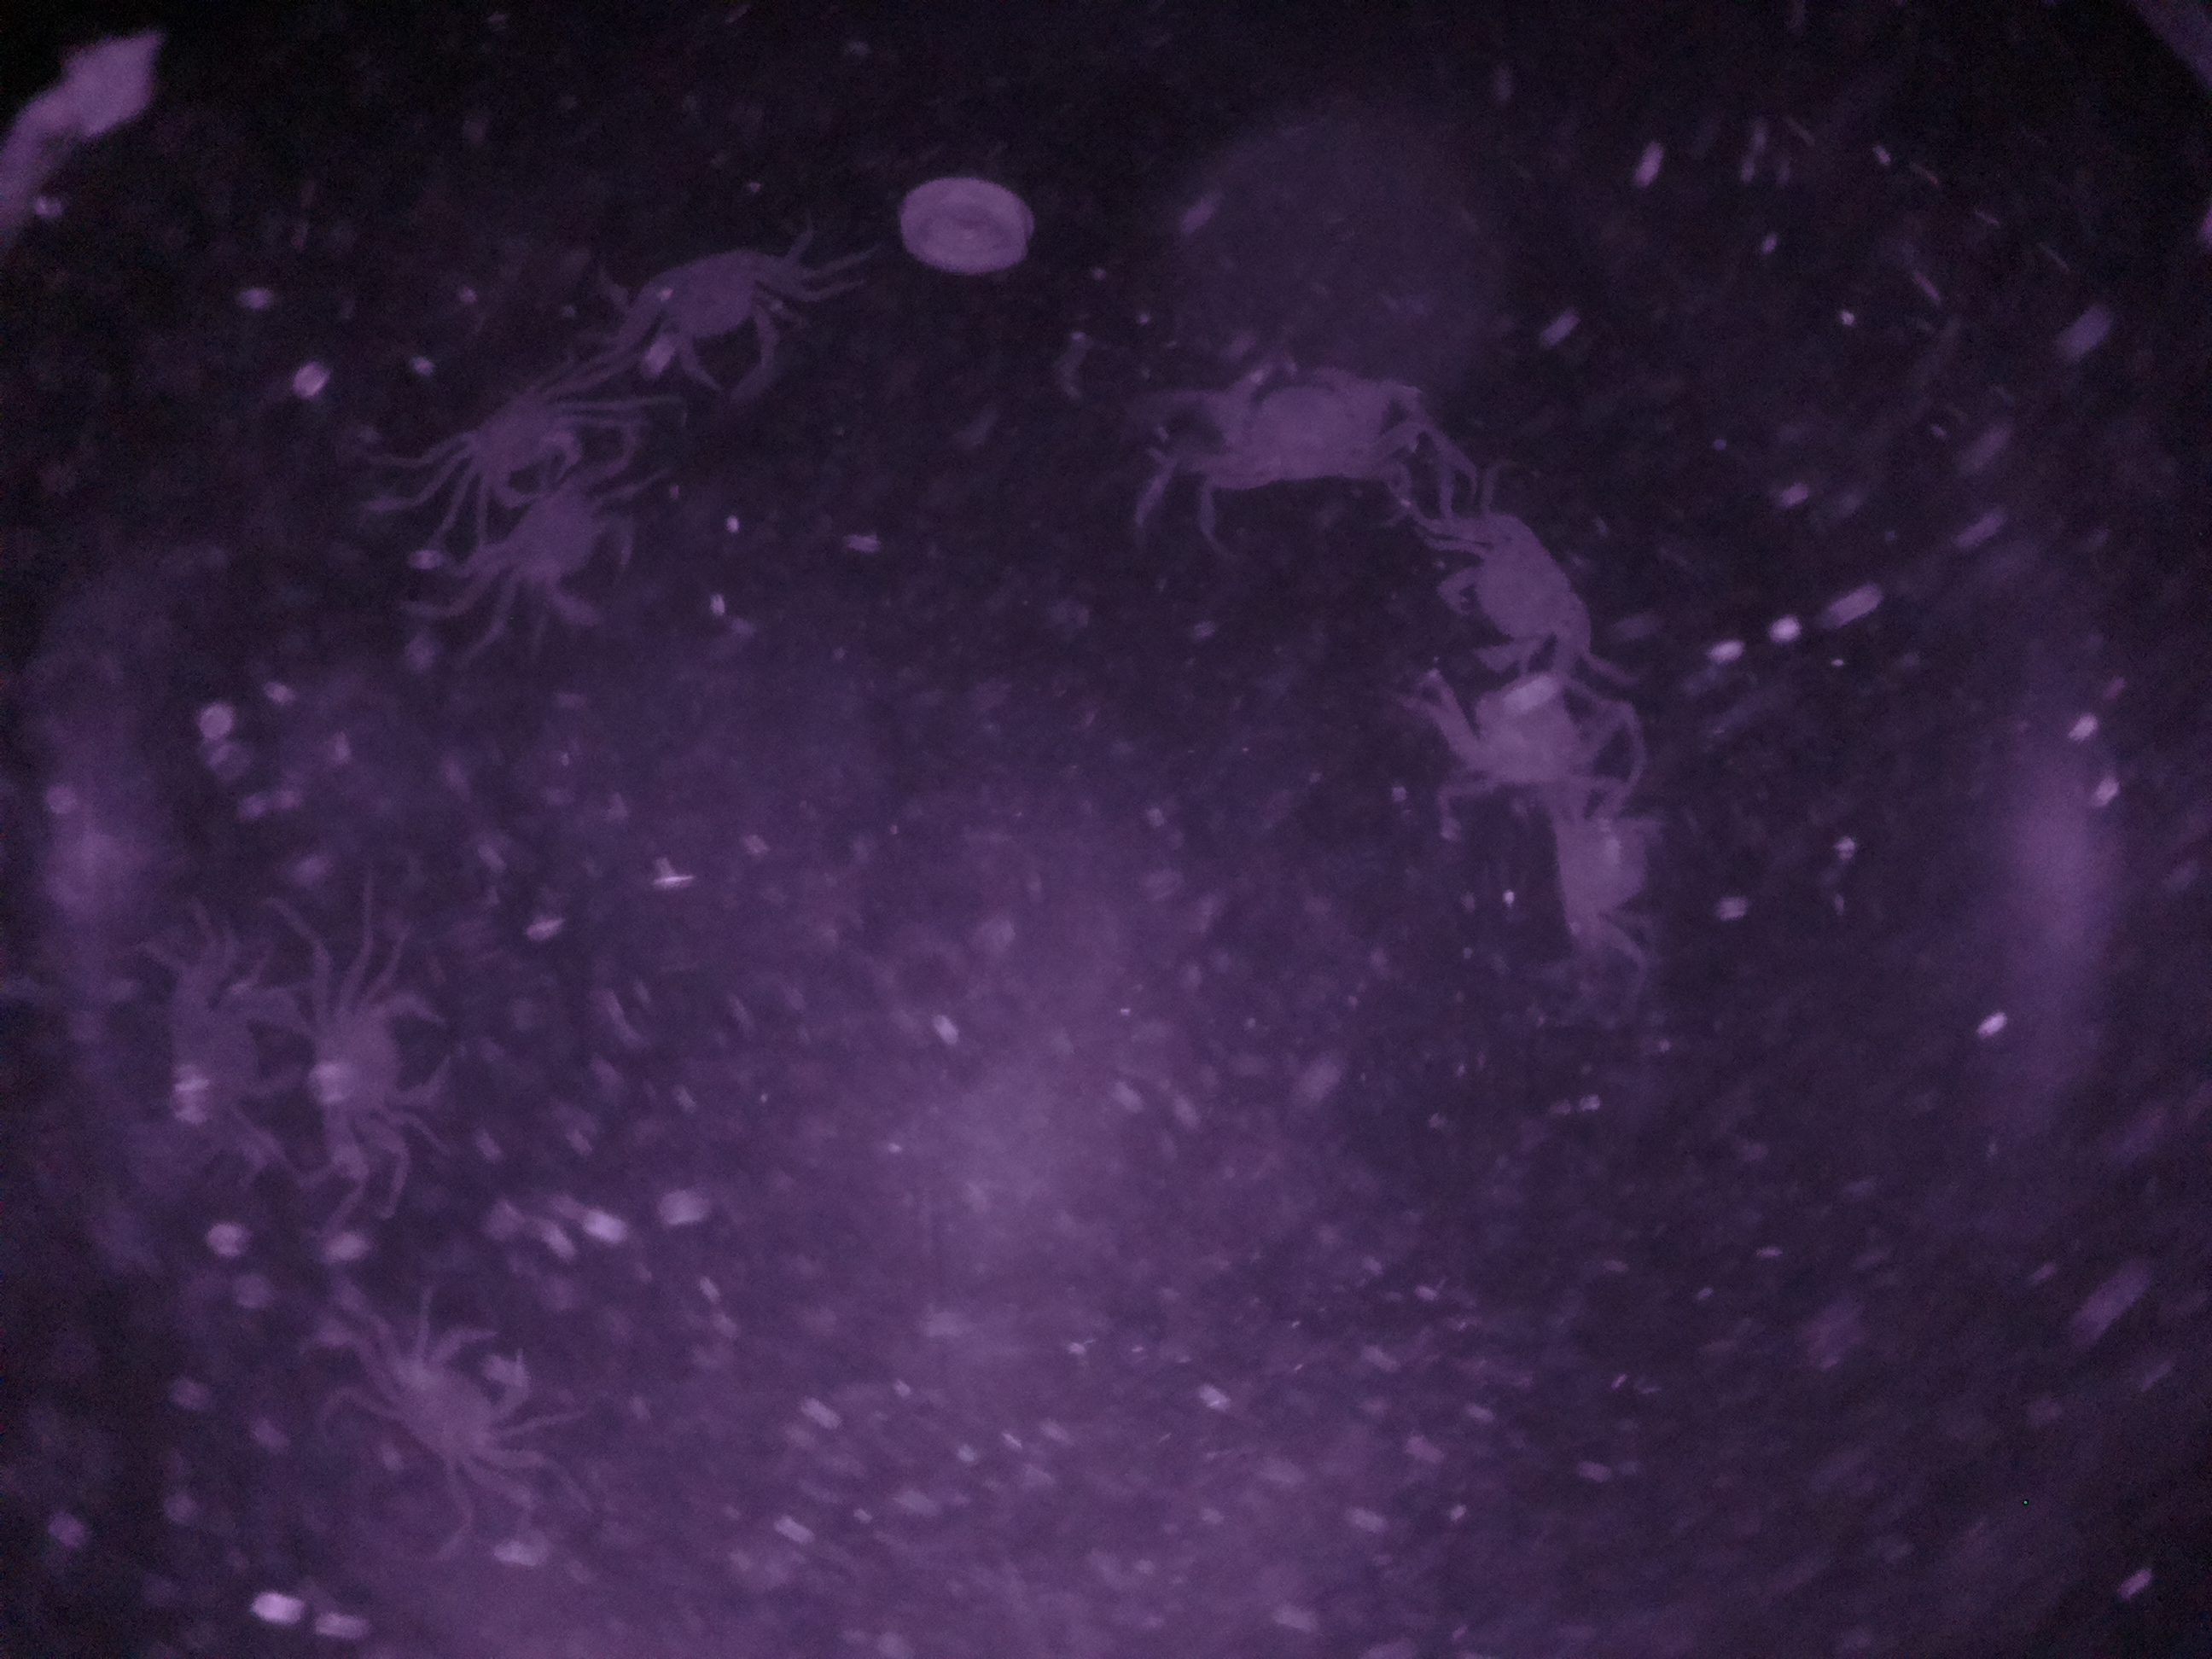Crab: (352, 1298, 556, 1537), (284, 955, 482, 1164), (1423, 481, 1608, 694), (615, 228, 826, 408), (408, 362, 618, 504)
